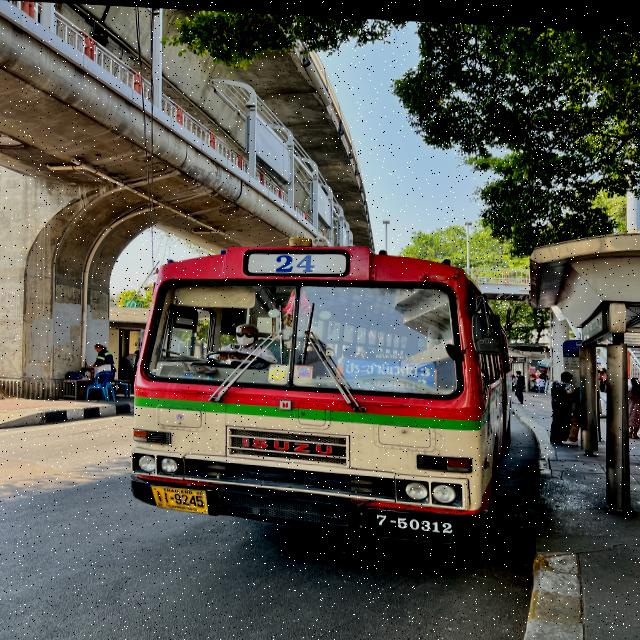BMTA-bus: (129, 234, 510, 544)
Bus-Line-Number: (243, 242, 353, 278)
Destination-Sign-Normal: (340, 356, 437, 389)
